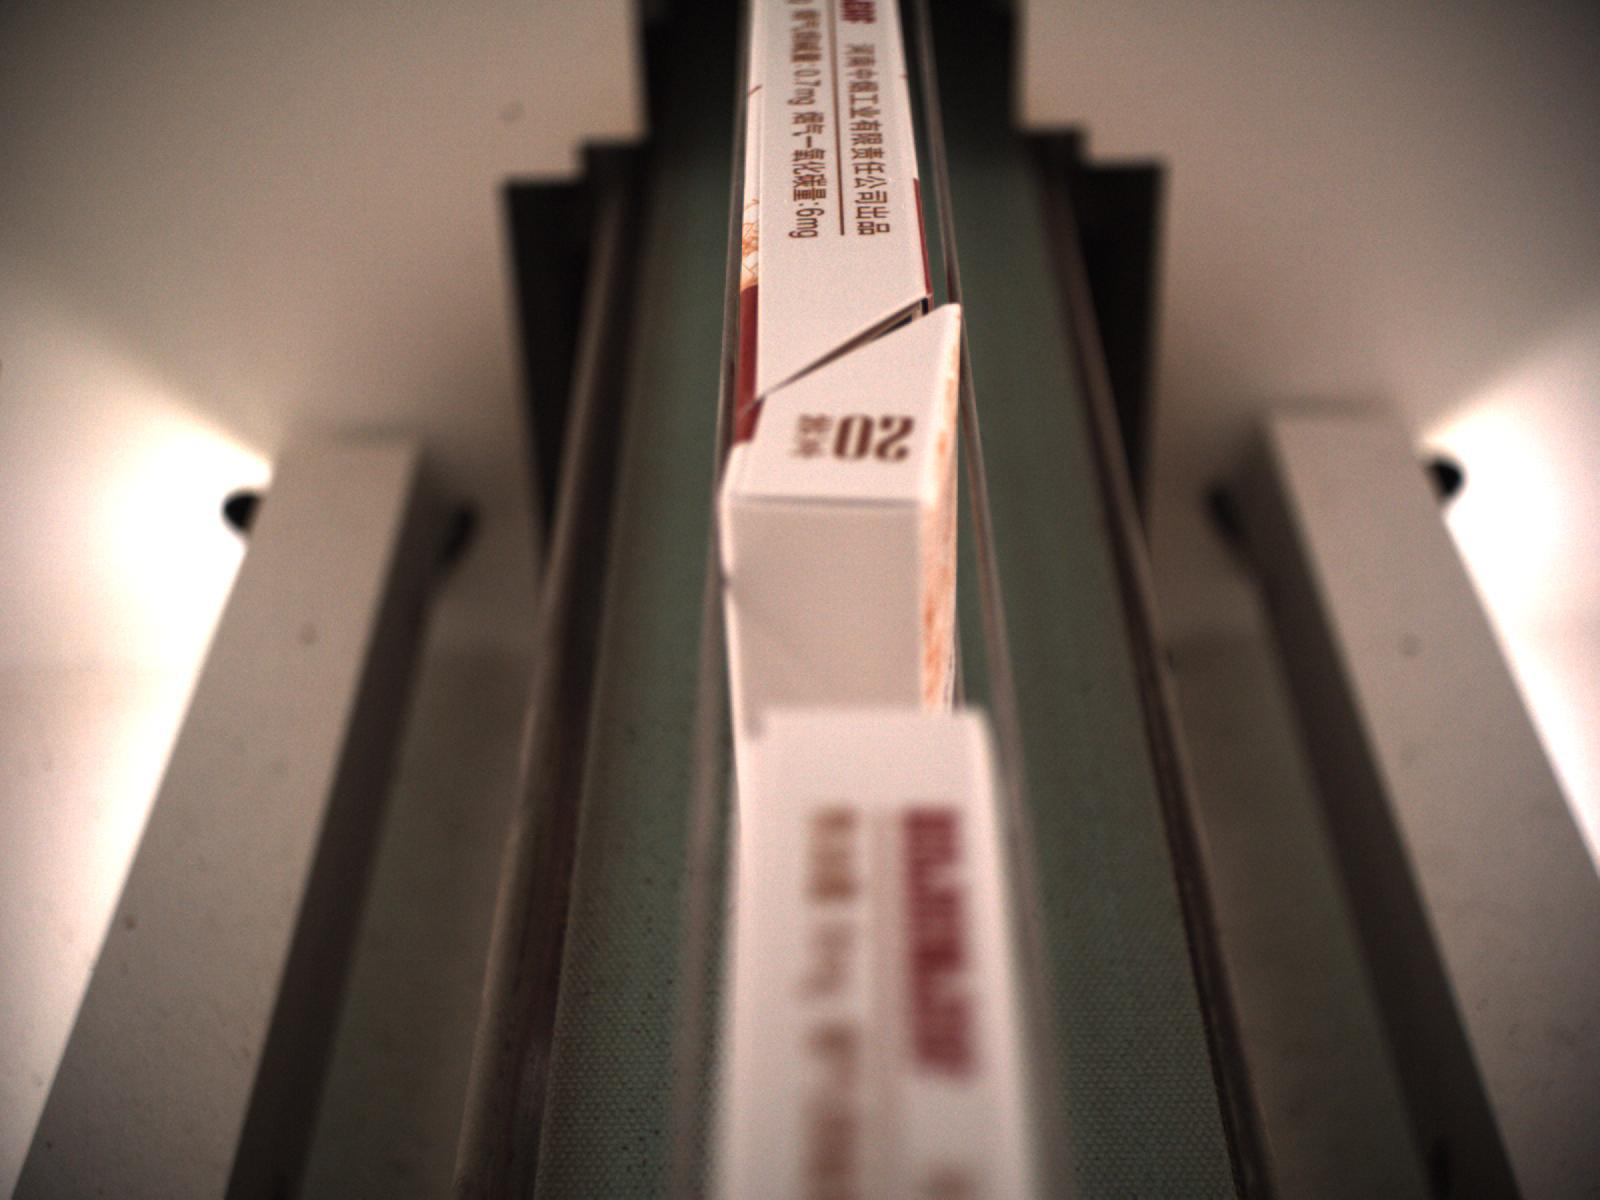headOpen_upper: (734, 290, 963, 423)
